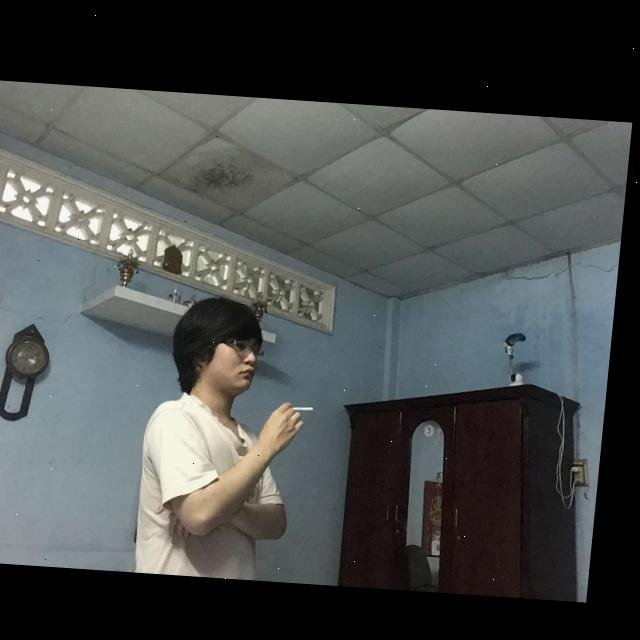cigarette: (300, 401, 321, 406)
